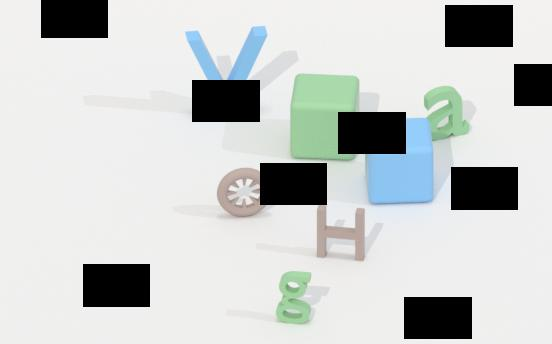H-hoa: (311, 202, 373, 266)
a: (421, 82, 472, 142)
g: (274, 264, 315, 328)
hop: (286, 70, 364, 164), (364, 116, 437, 209)
tron: (216, 165, 273, 220)
v: (184, 25, 270, 118)
